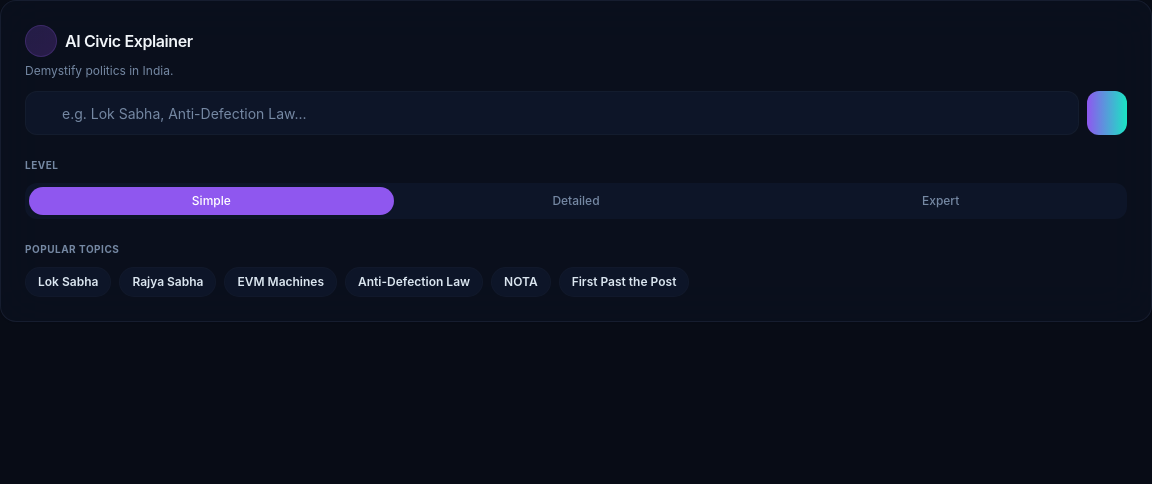
Test: CivicExplainer › should display explanation after AI responds
The width and height of the screenshot is (1152, 484).
Click the text "Lok Sabha": (68, 282) x1=25 y1=267 x2=111 y2=297
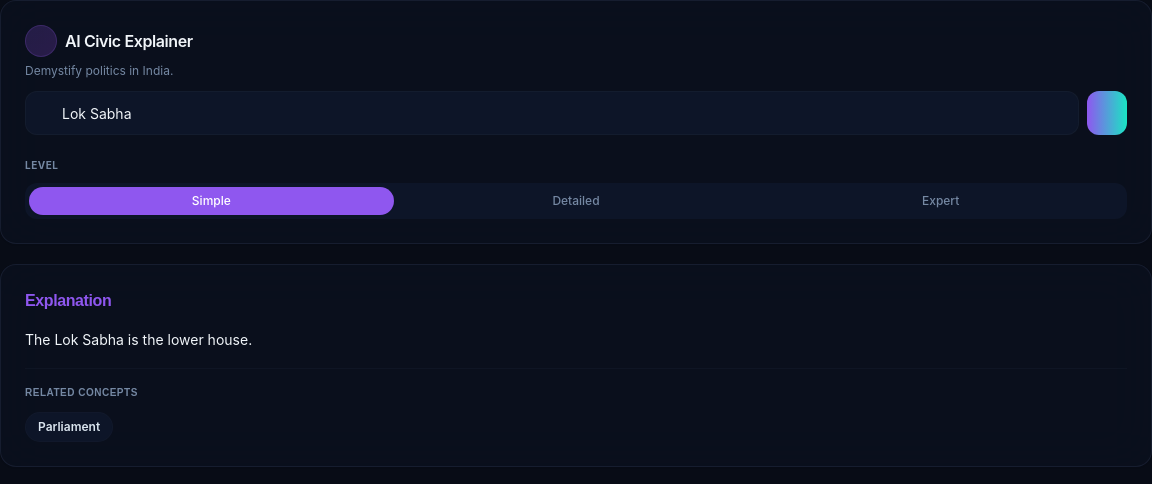
Expected: the text "The Lok Sabha is the lower house." is shown, x1=25 y1=331 x2=252 y2=348
